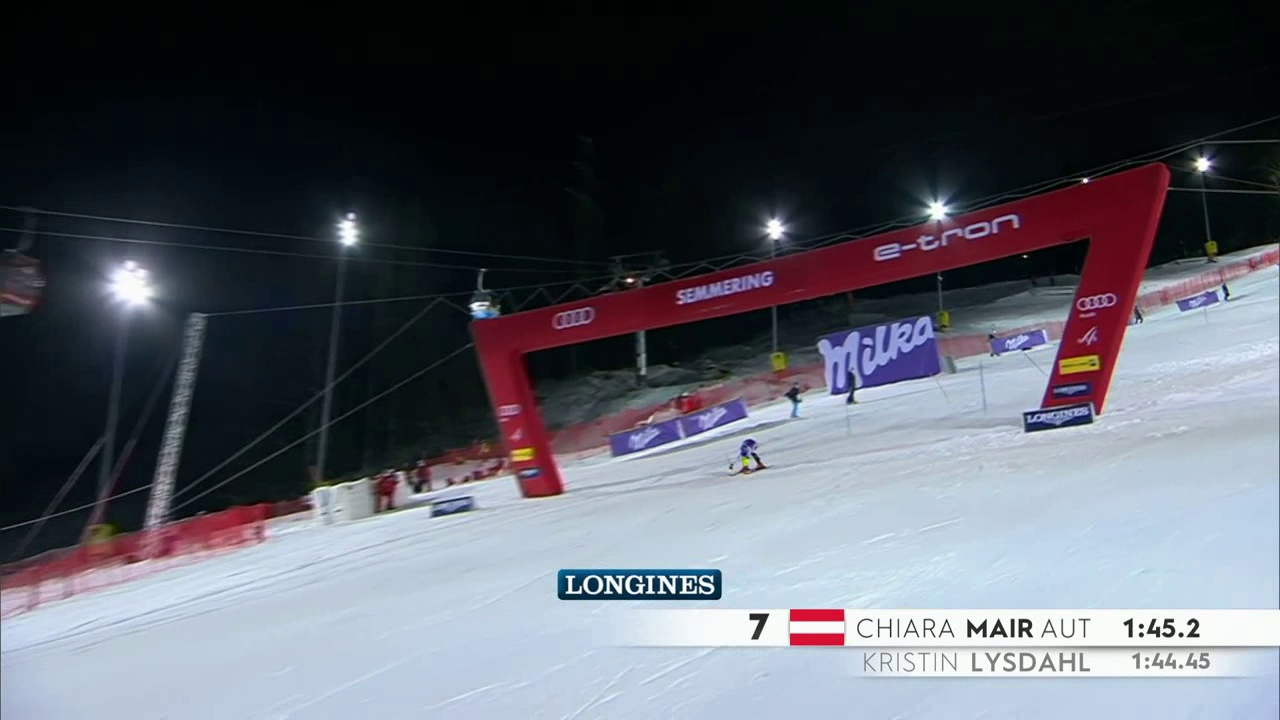audi: (545, 303, 603, 339), (1079, 290, 1123, 316)
etron: (858, 216, 1028, 266)
longines: (558, 566, 728, 606), (1023, 405, 1099, 435)
milka: (819, 316, 939, 396)
